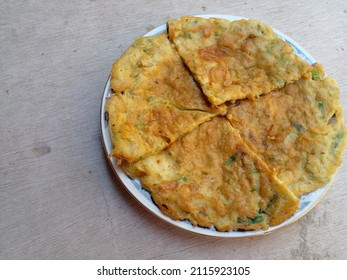Telur: (137, 123, 269, 238), (164, 27, 299, 96), (89, 97, 199, 150)
